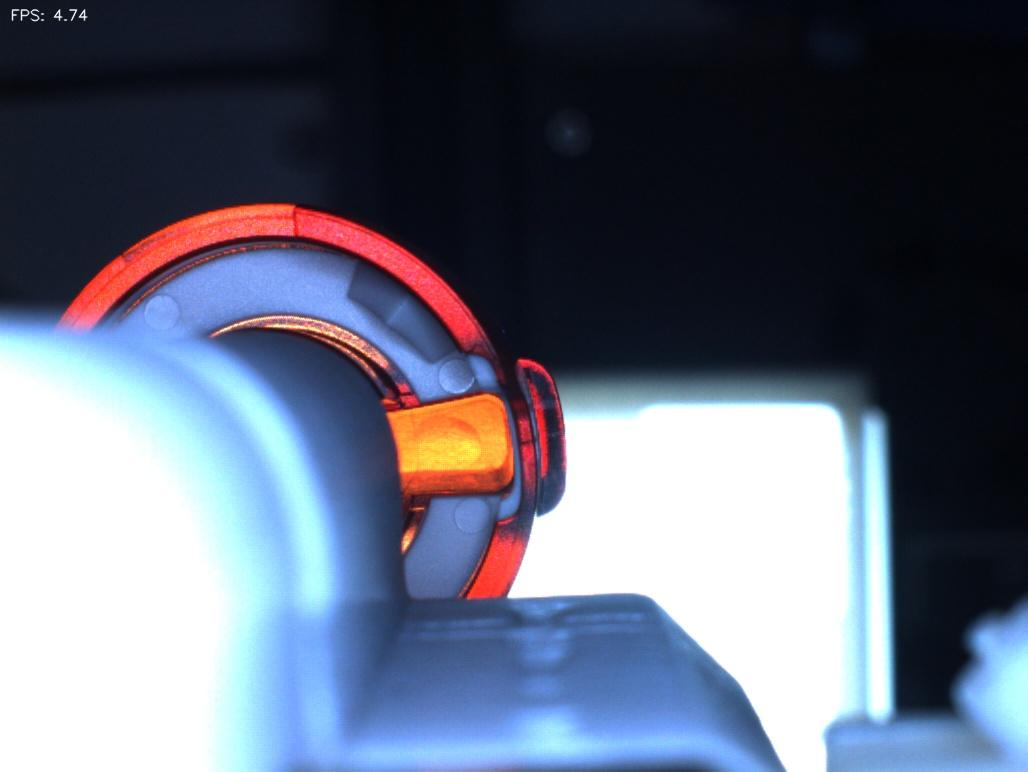Retassure: (400, 406, 491, 472)
